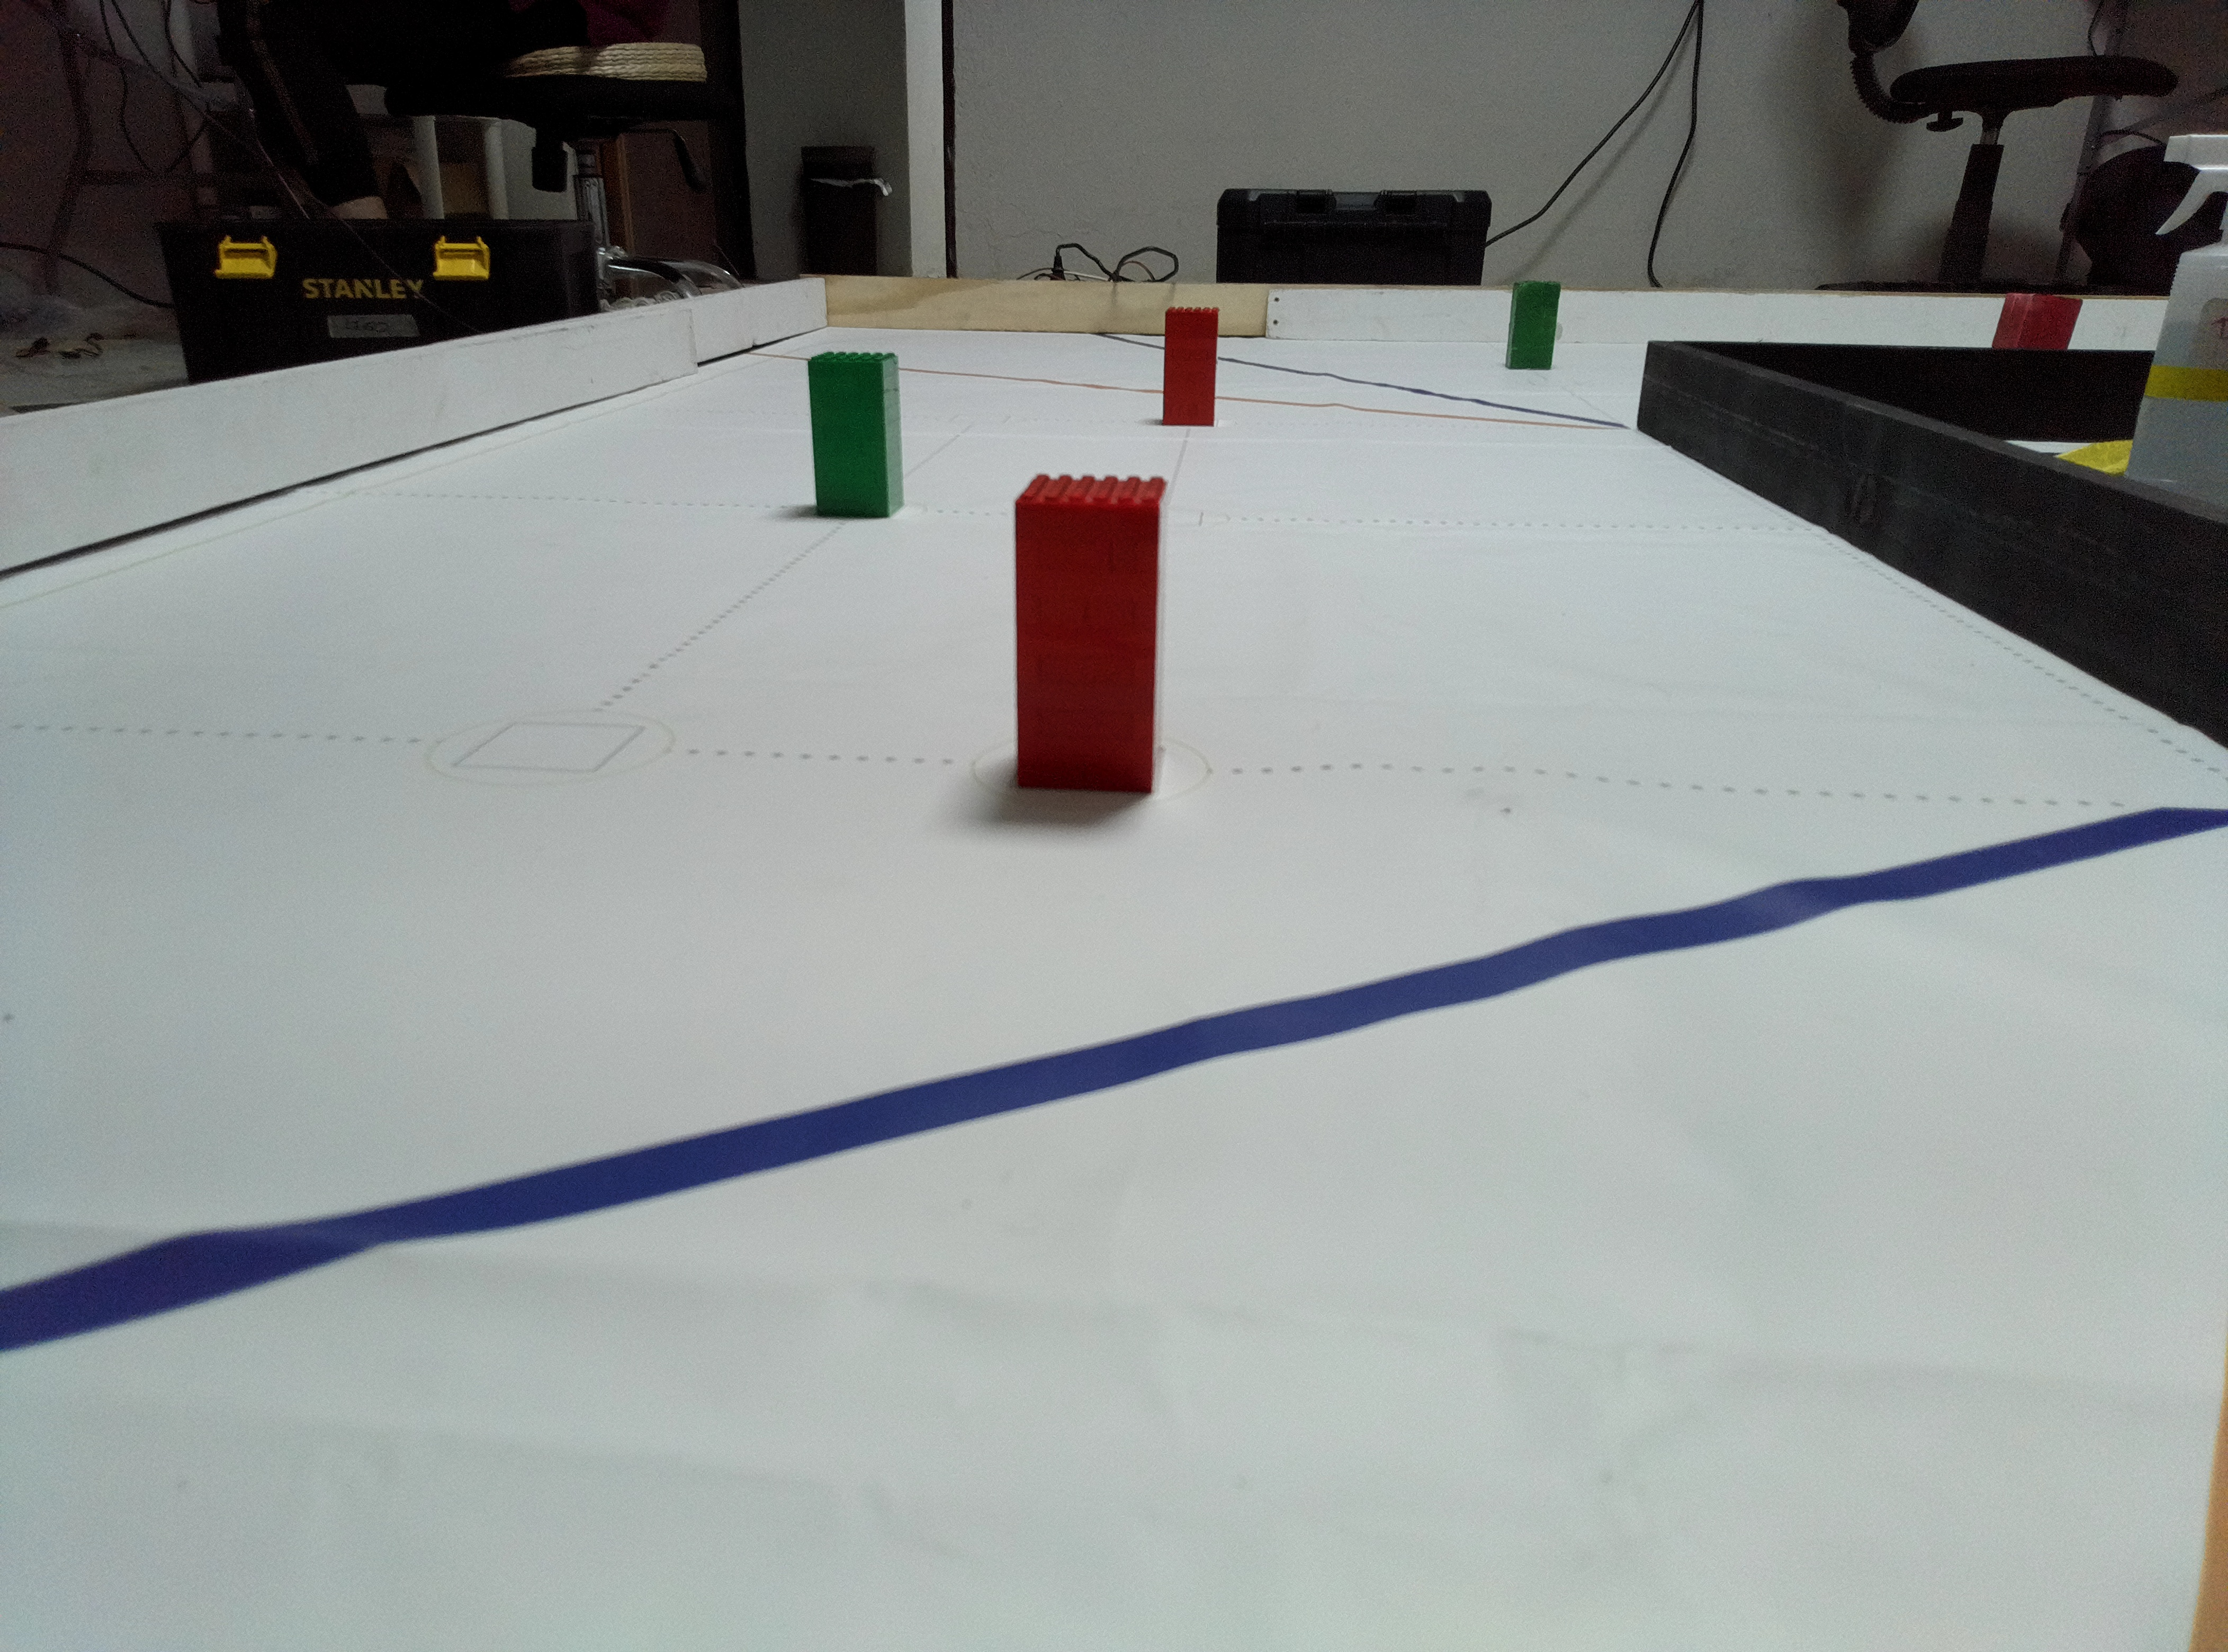greenbox: (803, 349, 906, 521), (1503, 279, 1565, 371)
redbox: (1010, 472, 1171, 798), (1161, 302, 1220, 427), (1985, 292, 2086, 351)
